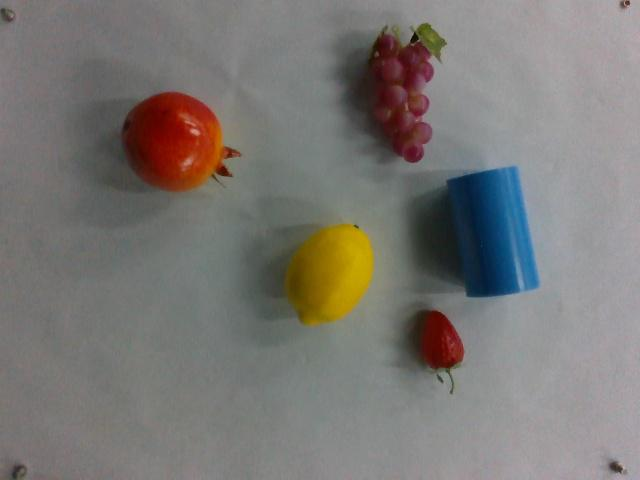cylinder: (446, 165, 541, 301)
grape: (364, 21, 445, 168)
lemon: (287, 220, 373, 327)
pomegranate: (118, 89, 240, 191)
strawberry: (419, 309, 466, 395)
